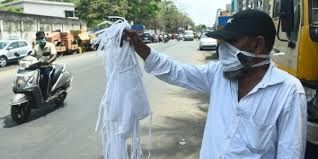mask: (219, 31, 266, 76), (35, 32, 44, 43)
